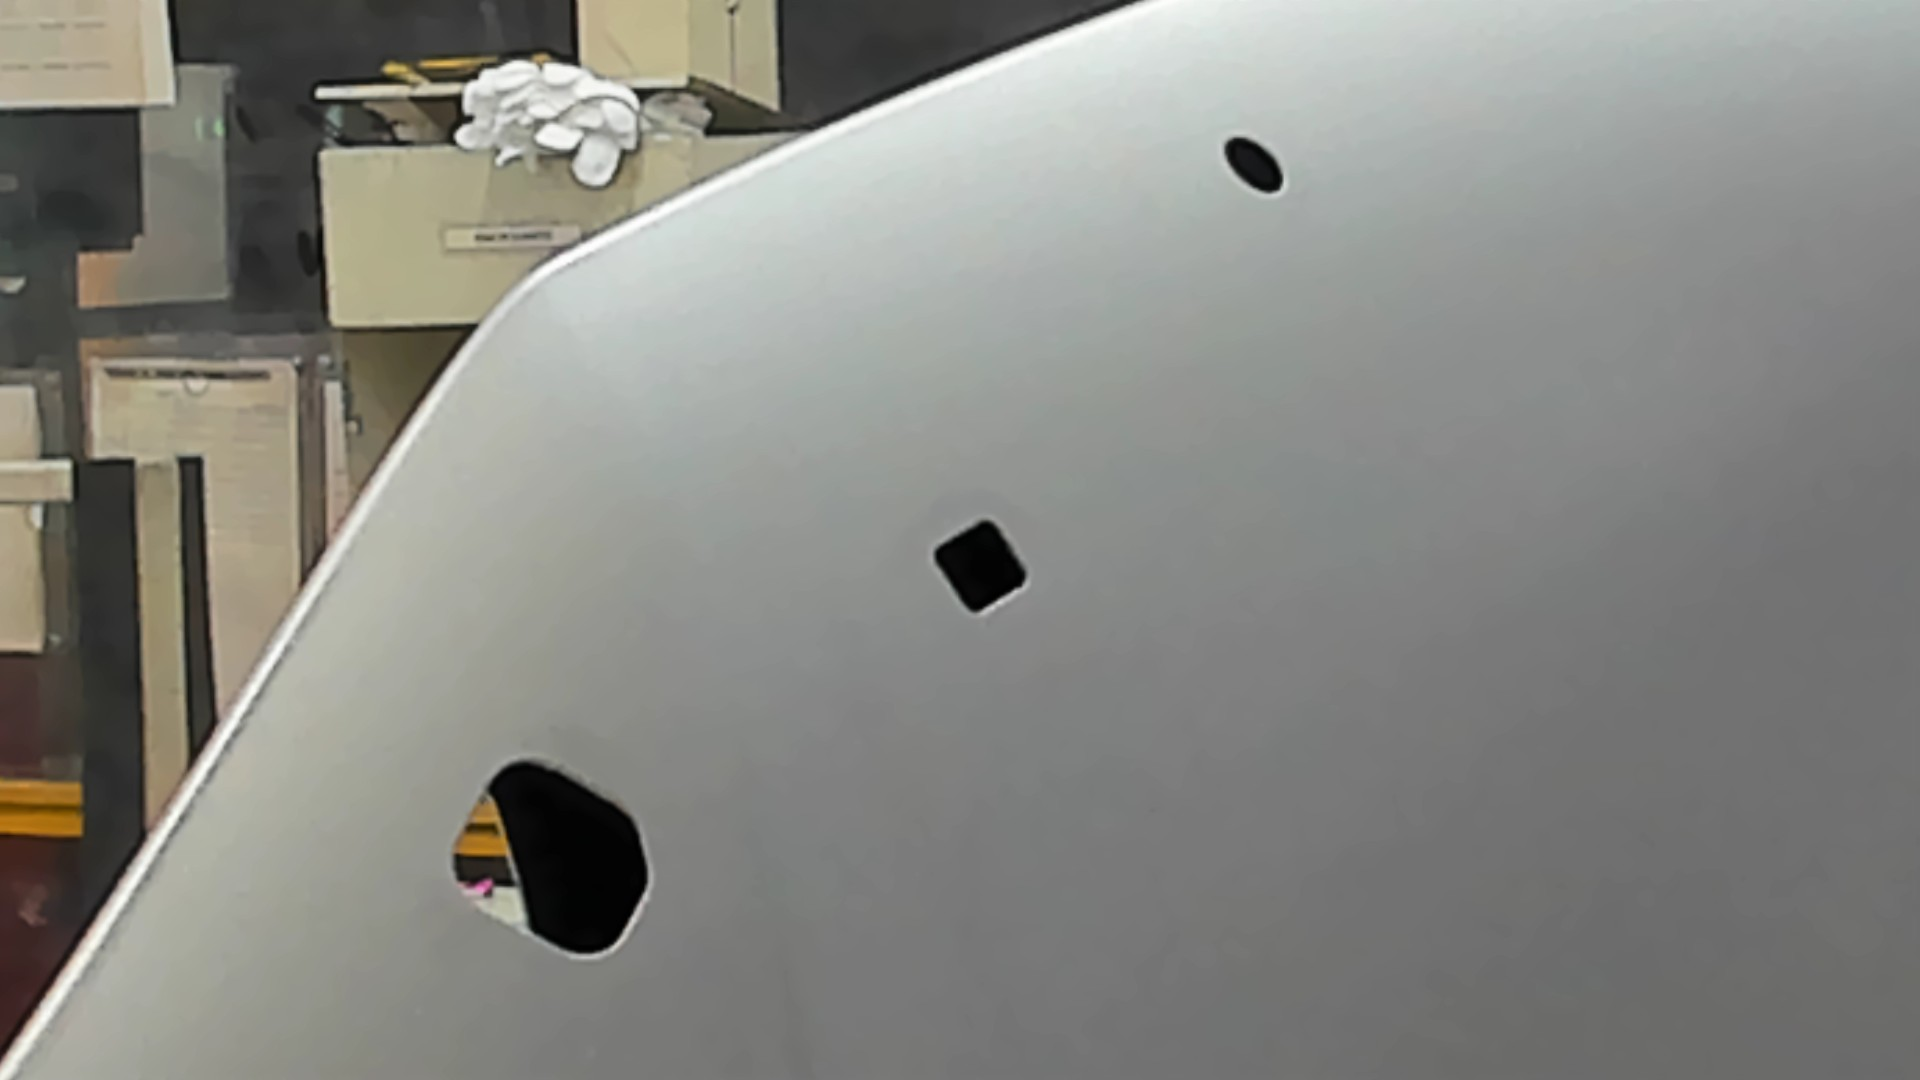Agujero: (932, 520, 1031, 618), (1222, 135, 1284, 195)
Agujerote: (448, 756, 651, 961)
